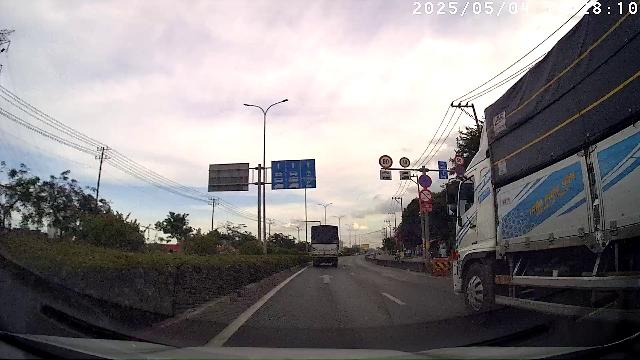127-toc-do-toi-da-50: (454, 155, 464, 165)
127-toc-do-toi-da-60: (400, 156, 410, 168)
127-toc-do-toi-da-80: (378, 154, 394, 168)
130-cam-dung-va-do-xe: (418, 174, 432, 188)
